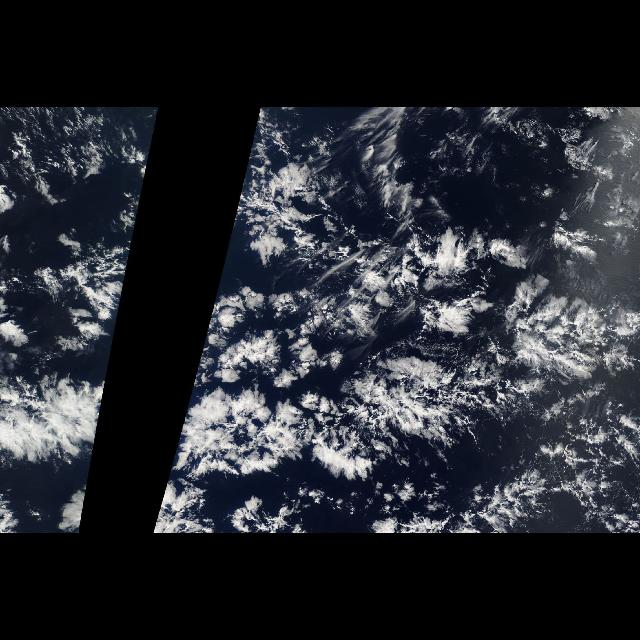Fish: (186, 356, 640, 528)
Flower: (153, 109, 637, 532), (2, 109, 158, 532)
